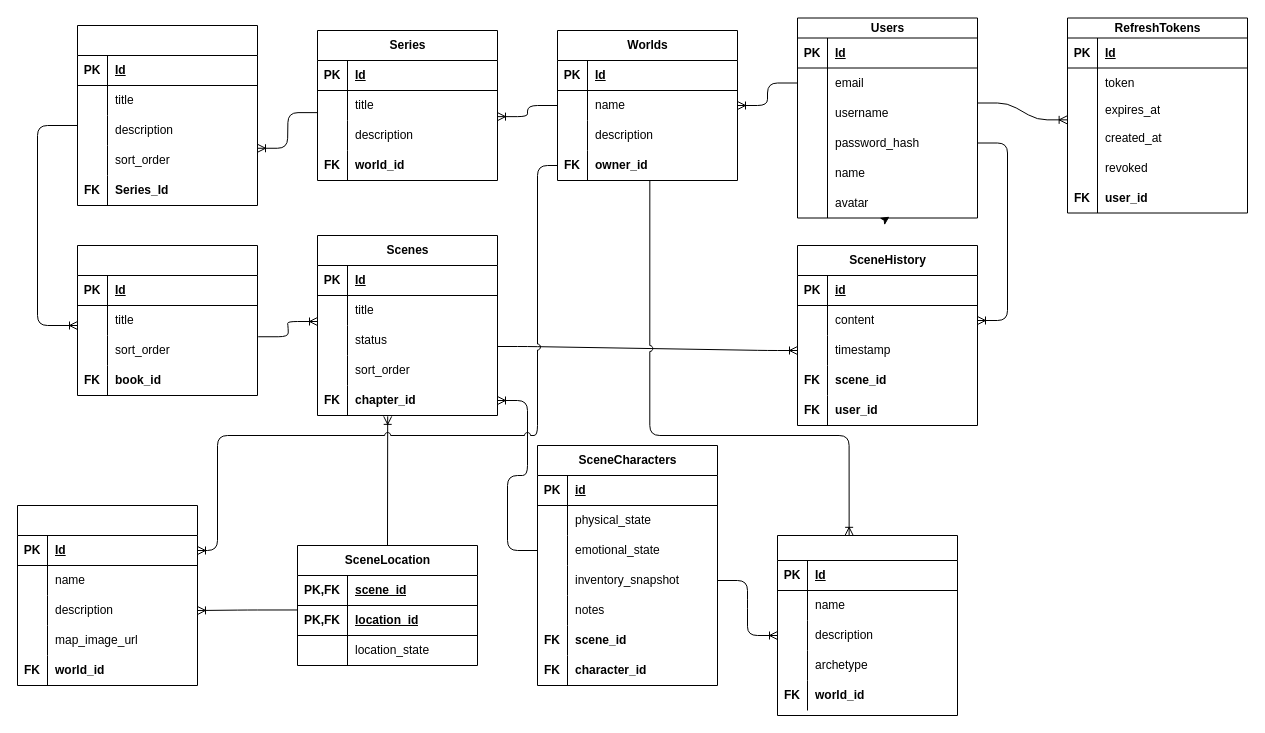
Some shapes in this 1265 by 733 pixel diagram are drawn without their labels. Here are the shapes that lost their labels. From the top down, the box of each, then its label:
(76, 24, 258, 206): Books
(76, 244, 258, 396): Chapters
(16, 504, 198, 686): Locations
(776, 534, 958, 716): Characters
